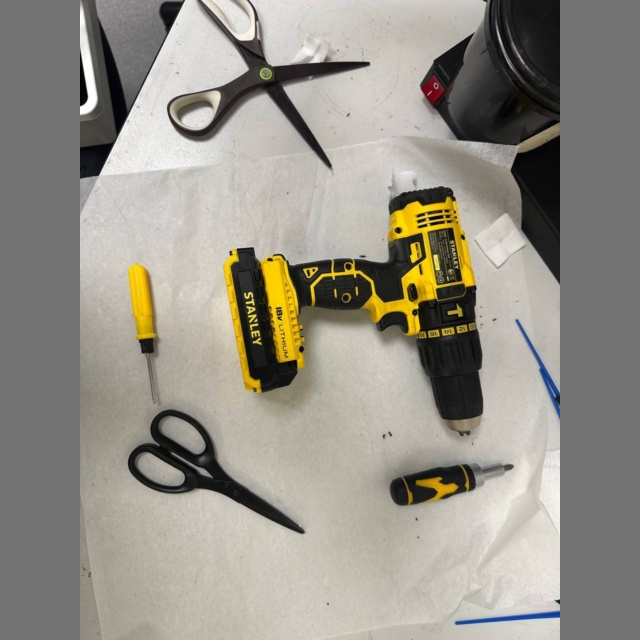drill: (226, 186, 490, 435)
scissor: (168, 0, 369, 168), (128, 409, 304, 533)
screwdriver: (390, 463, 514, 505), (129, 264, 158, 403)
